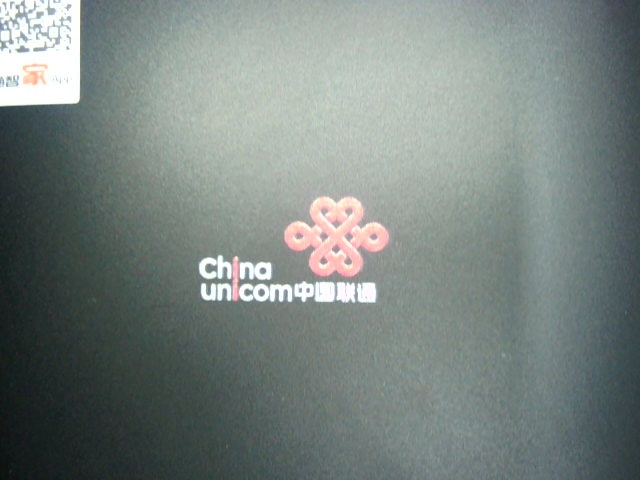AC_ChinaUnicom: (191, 190, 392, 311)
